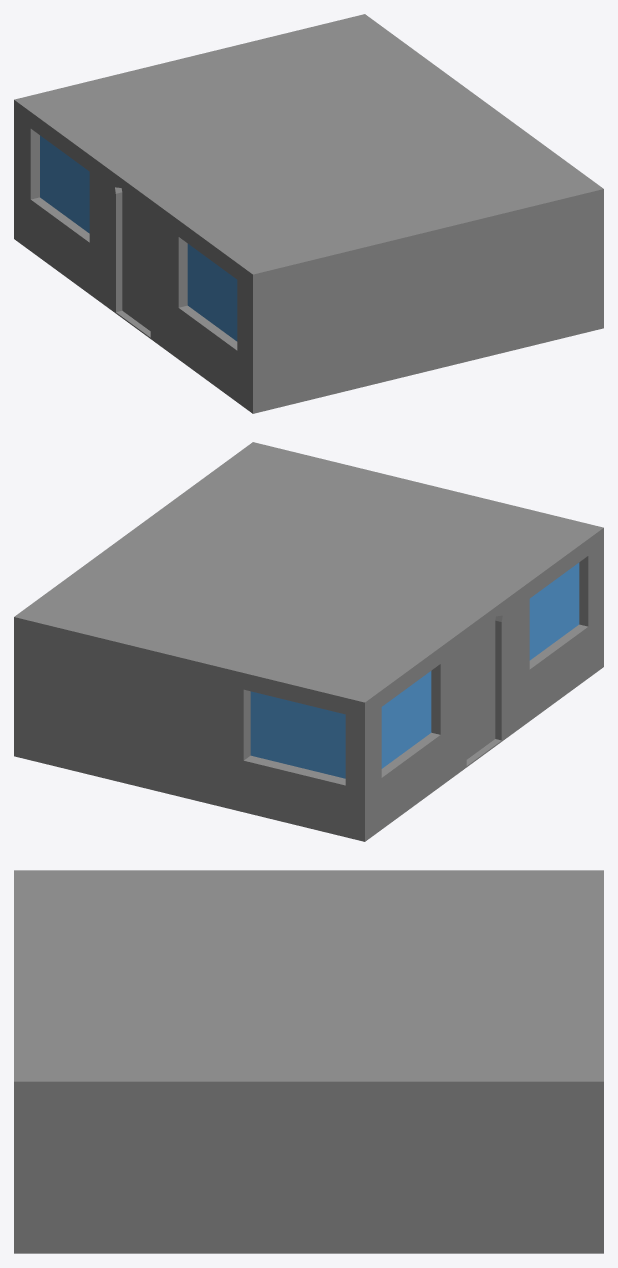
3 views of the same model, one above another, from view 1: azimuth 30°, elevation 25°; view 2: azimuth 150°, elevation 25°; view 3: azimuth 270°, elevation 25° (orthographic). The views are drawn at different scales.
Visible parts, largest first — view 1: Base1_LOD1_2; view 2: Base1_LOD1_2; view 3: Base1_LOD1_2.
Boxes of the visible parts, left/top/right/bottom form: Base1_LOD1_2: left=14, top=14, right=603, bottom=413; Base1_LOD1_2: left=14, top=442, right=603, bottom=841; Base1_LOD1_2: left=14, top=870, right=603, bottom=1253.
Bounding box in the file's own units: 246 × 93.43 × 290.
